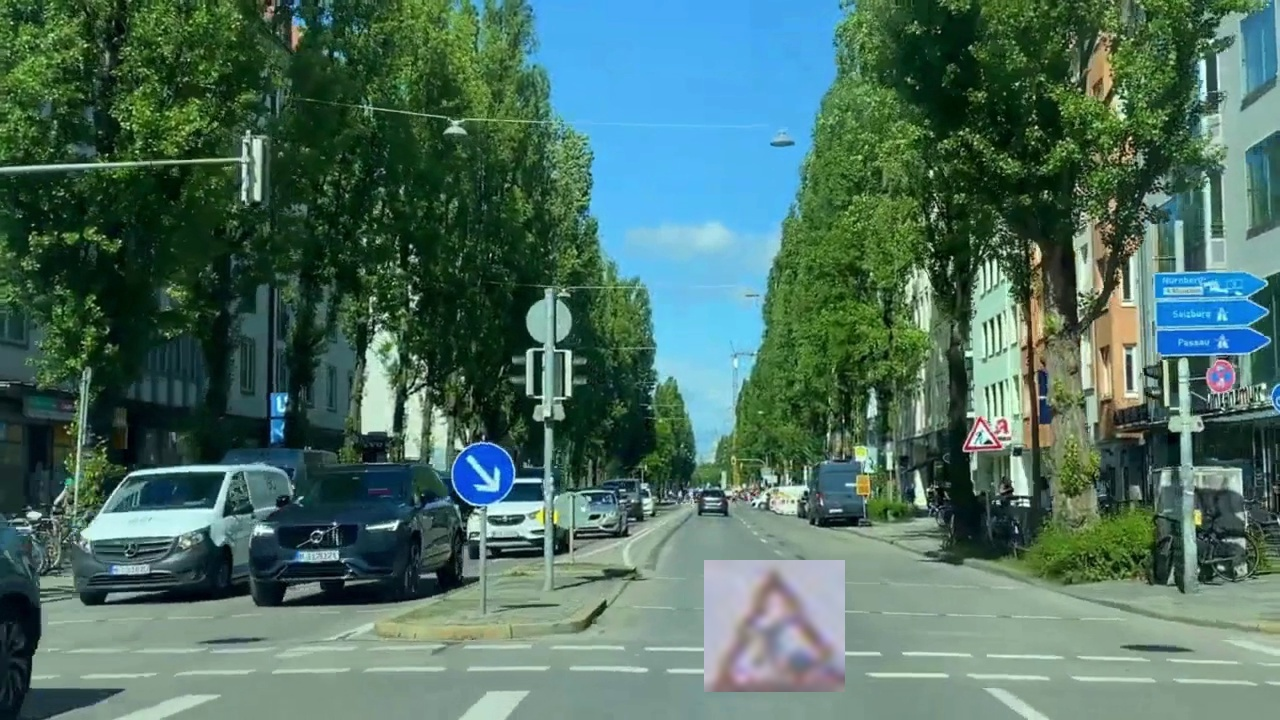Road work: (704, 560, 845, 692)
